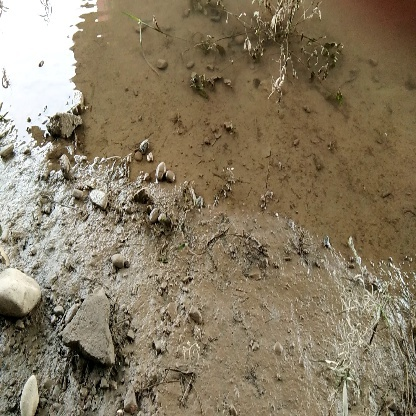grass: (237, 1, 334, 66)
